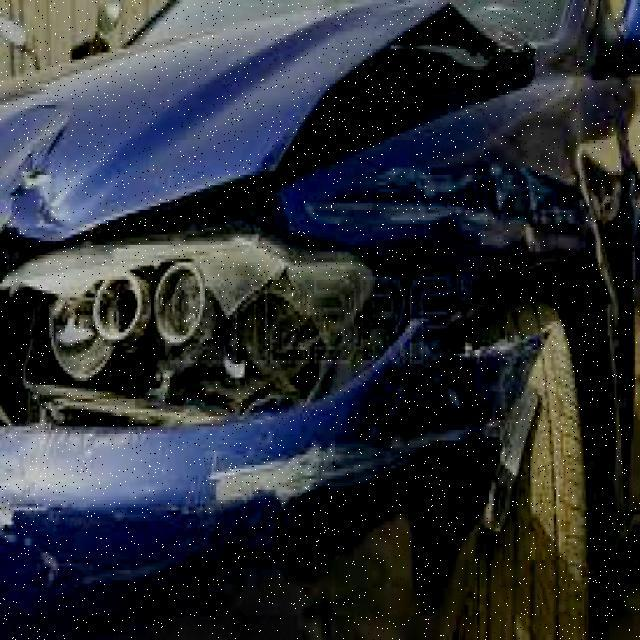car damage: (1, 3, 628, 633)
